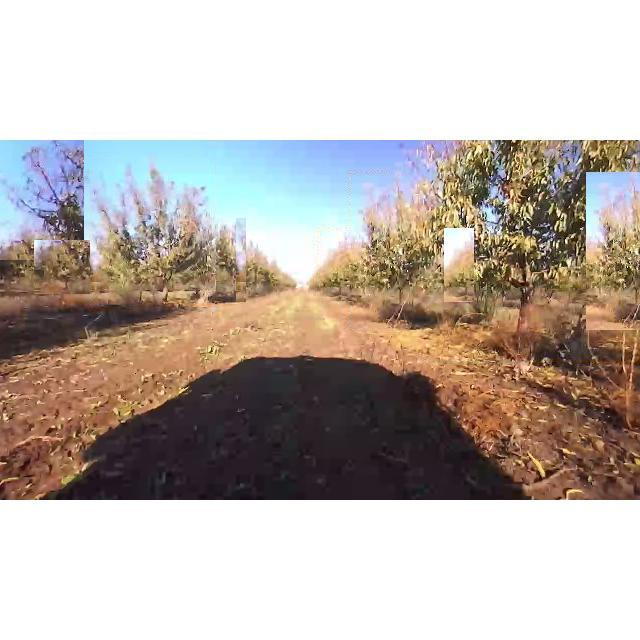direk: (420, 140, 640, 362), (350, 172, 474, 330), (90, 157, 216, 311), (0, 140, 84, 260), (318, 228, 380, 302), (206, 218, 246, 302), (34, 240, 90, 294)
